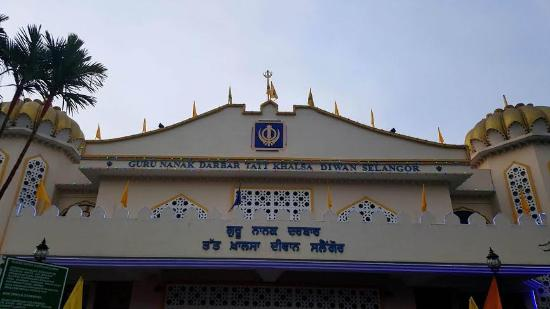Gurdwara: (9, 68, 546, 293)
